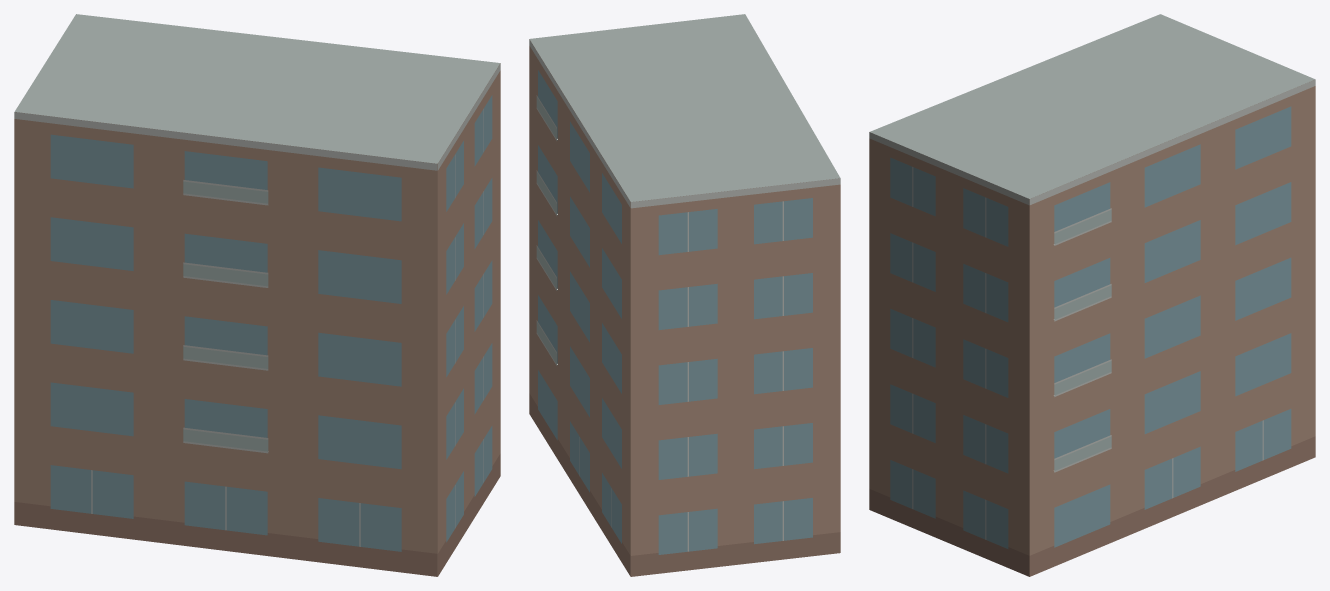
The model's file is survey-upis-32881787.glb.
3 views of the same model, side by side, from view 1: azimuth 30°, elevation 25°; view 2: azimuth 150°, elevation 25°; view 3: azimuth 270°, elevation 25° (orthographic). The views are drawn at different scales.
Parts seen in each view (by area): view 1: survey-upis-32881787.tmp; view 2: survey-upis-32881787.tmp; view 3: survey-upis-32881787.tmp.
Part boxes in pixels (box(x1,y1,x2,y2)): survey-upis-32881787.tmp: box(14, 14, 500, 576); survey-upis-32881787.tmp: box(529, 14, 840, 576); survey-upis-32881787.tmp: box(869, 14, 1315, 576).
Size of the model in its own units: 15.08 by 14.35 by 15.36.
